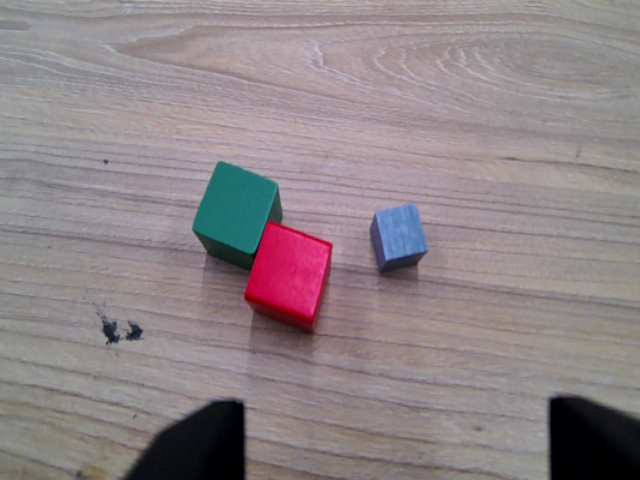stone: (368, 200, 430, 275)
